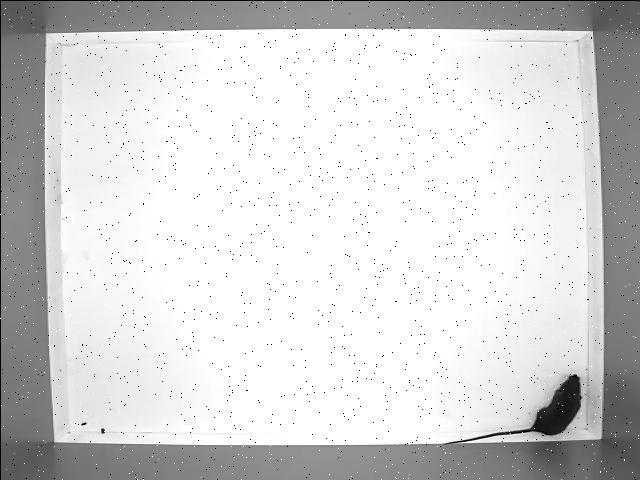Tikus: (432, 372, 588, 446)
